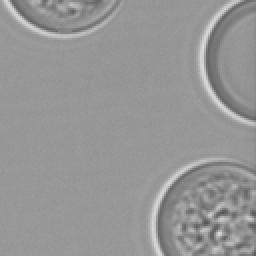picoshell: (152, 160, 254, 254), (198, 0, 254, 126), (2, 0, 122, 38)
